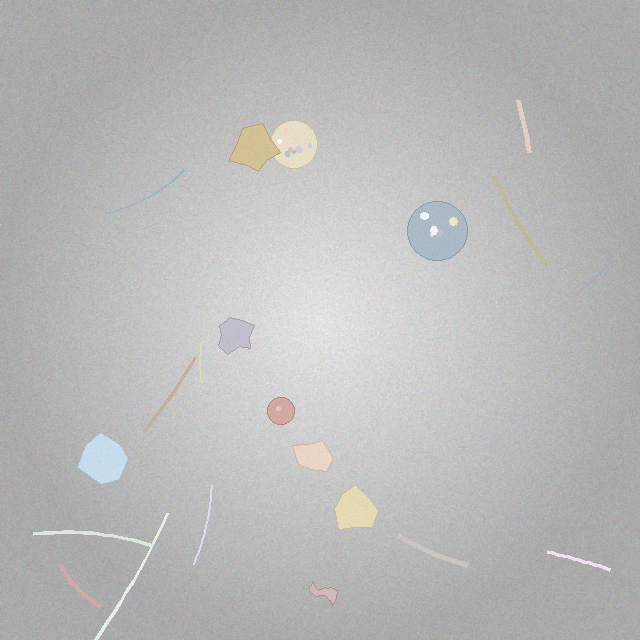fiber: (88, 510, 171, 639), (489, 171, 550, 268), (141, 355, 199, 435), (103, 168, 186, 216), (393, 531, 473, 570), (29, 528, 156, 550), (56, 561, 105, 610), (190, 482, 214, 568), (543, 547, 614, 574), (576, 258, 615, 295), (513, 96, 535, 158), (197, 339, 204, 385)
film: (309, 582, 337, 606)
foam: (408, 201, 468, 261), (270, 121, 317, 168)
fragment: (78, 433, 128, 484), (229, 124, 281, 171), (335, 485, 379, 530), (219, 317, 254, 354), (293, 441, 333, 471)
pellet: (268, 398, 295, 425)
